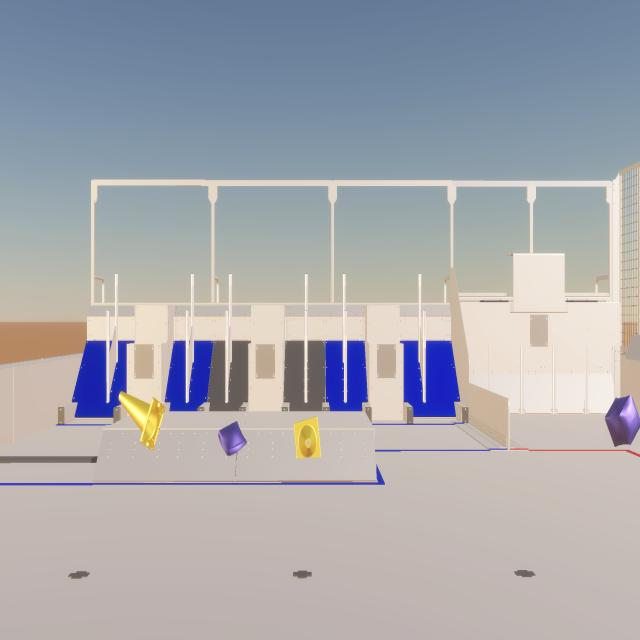frc_cone: (119, 391, 165, 451), (294, 417, 321, 458)
frc_cube: (605, 394, 640, 446), (215, 416, 250, 458)
